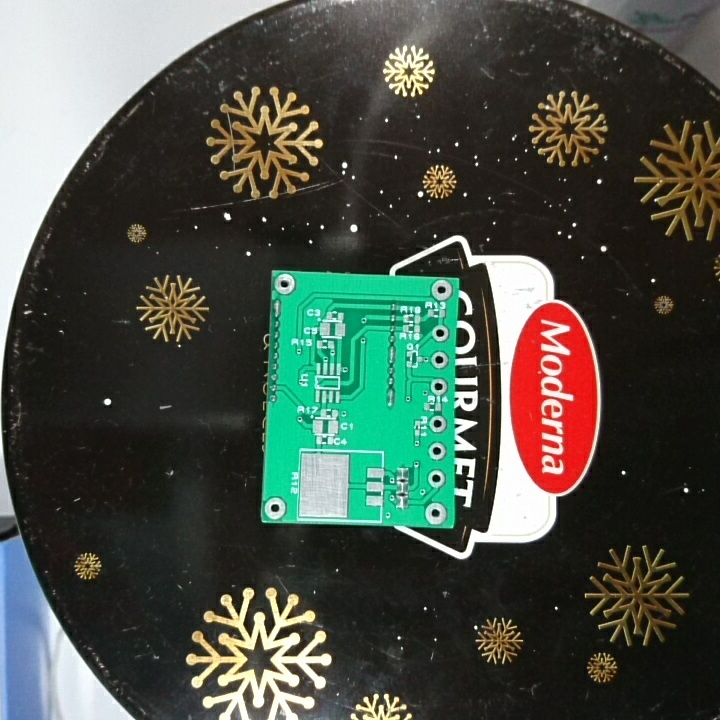F: (262, 494, 290, 521), (423, 499, 449, 526), (429, 276, 454, 301), (272, 272, 297, 296), (425, 468, 448, 490), (428, 412, 448, 437), (430, 322, 451, 344), (428, 375, 449, 397), (427, 441, 448, 463), (429, 349, 450, 369)
P: (383, 386, 398, 408), (270, 296, 283, 320), (385, 343, 399, 364)
